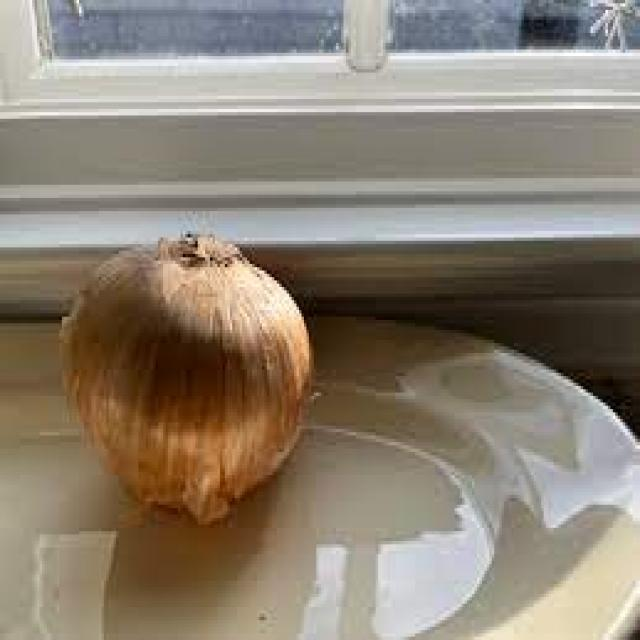Onion: (58, 234, 324, 521)
